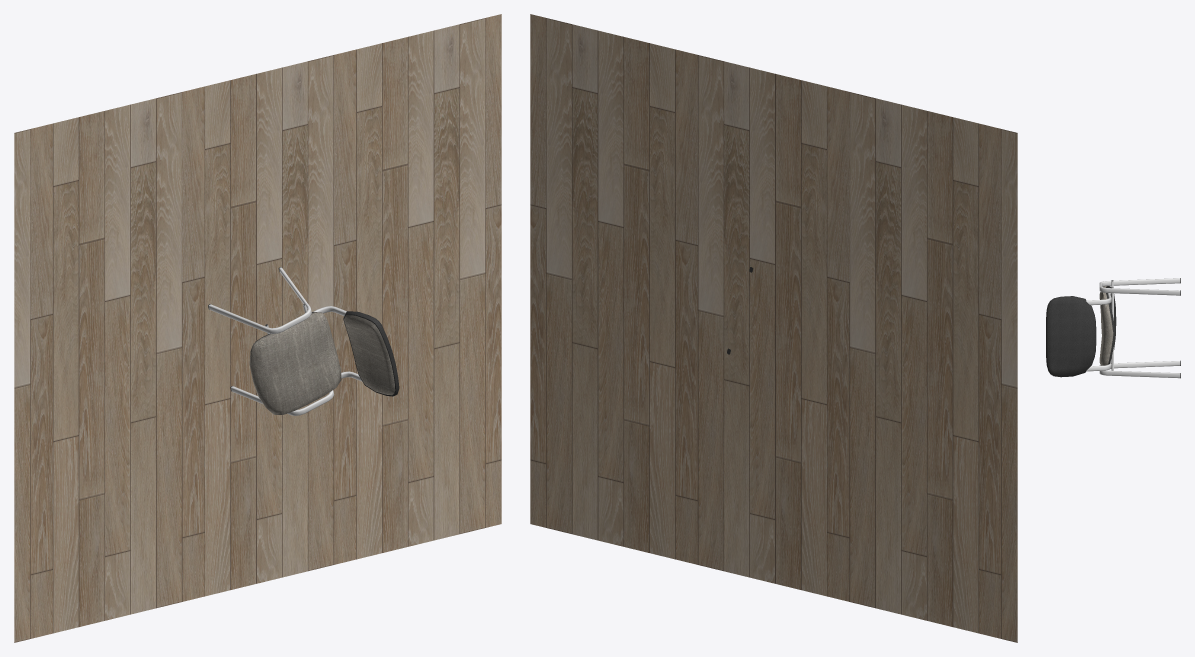
Rendered from office-chair--low-poly-f353bb.glb.
3 renders of one model, left to right at view 1: azimuth 30°, elevation 25°; view 2: azimuth 150°, elevation 25°; view 3: azimuth 270°, elevation 25°, orthographic. The views are drawn at different scales.
Visible parts, largest first — view 1: PropMesh; view 2: PropMesh; view 3: PropMesh.
Part boxes in pixels (x1=…): PropMesh: x1=14, y1=14, x2=501, y2=642; PropMesh: x1=530, y1=14, x2=1017, y2=642; PropMesh: x1=1046, y1=278, x2=1180, y2=378.
Bounding box in the file's own units: 2.2 × 2.2 × 0.6268.
4 materials, 3 textured.
